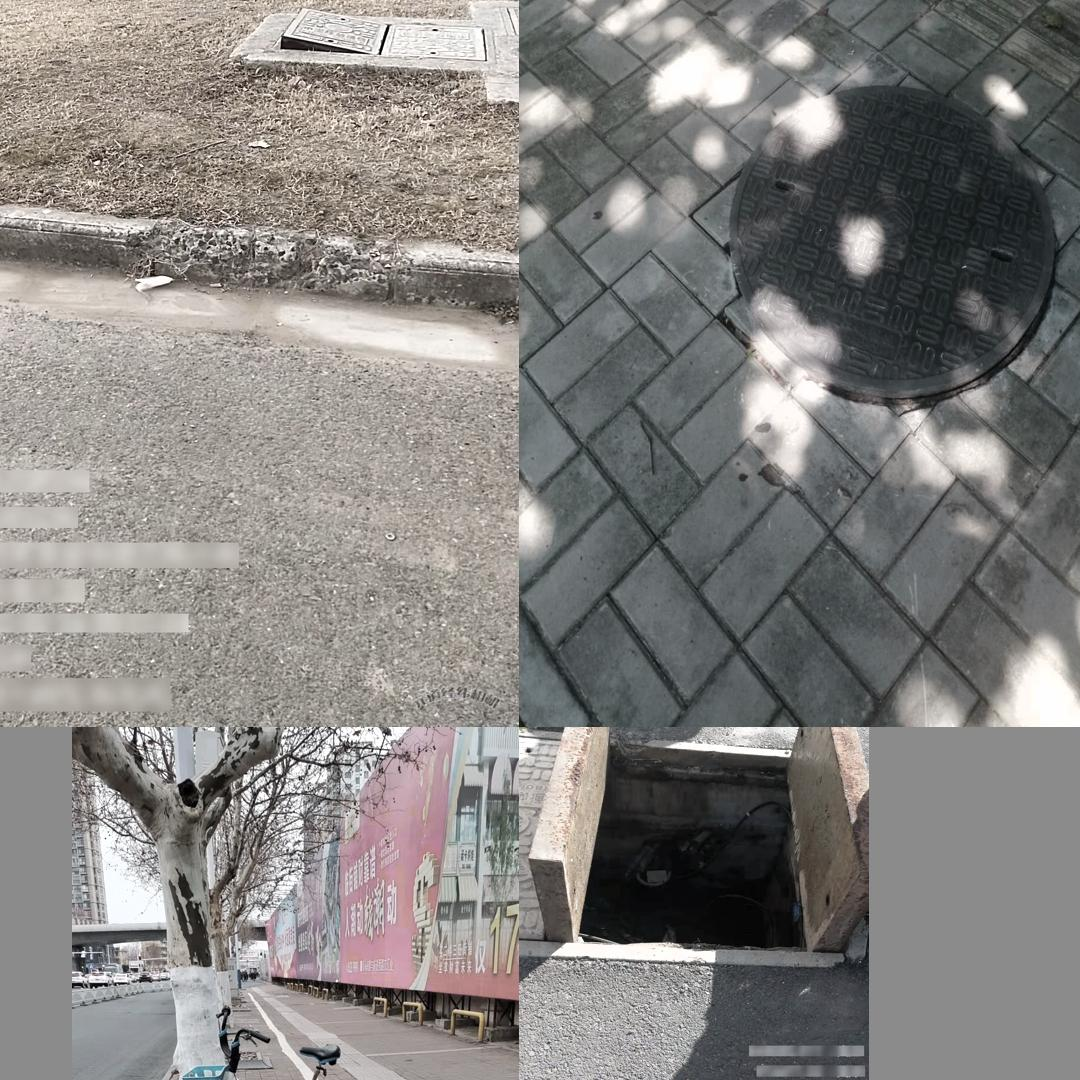uncovered: (699, 56, 1080, 399), (520, 727, 864, 965), (264, 3, 487, 64)
